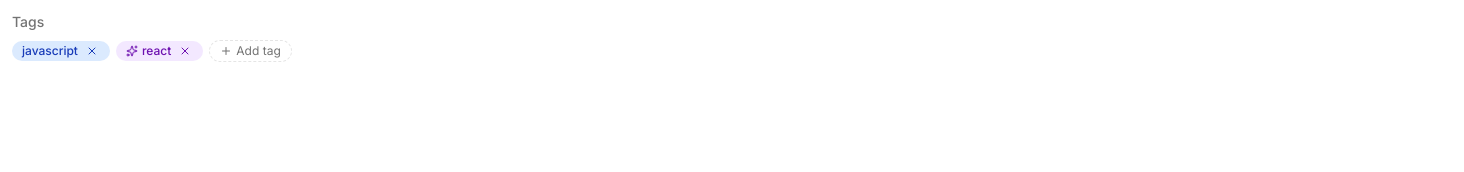
it: TagManager › opens input when Add tag clicked
Click the button "Add tag" at (250, 51), box [209, 40, 292, 62]
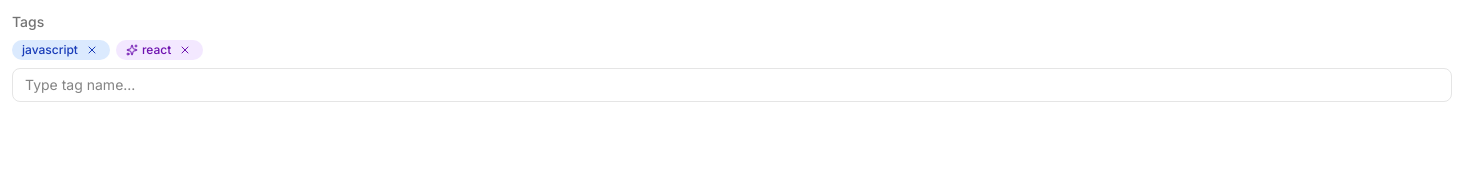
Now the field with placeholder "Type tag name..." is shown, box [12, 68, 1452, 102]
